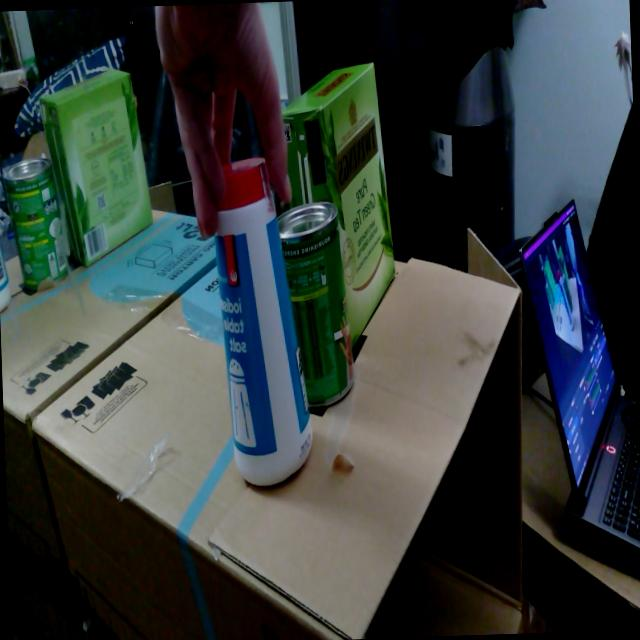nestle_milo_tin: (277, 202, 354, 407)
twinings_greentea_box: (281, 62, 395, 347)
woolworths_salt_bottle: (215, 157, 312, 486)
